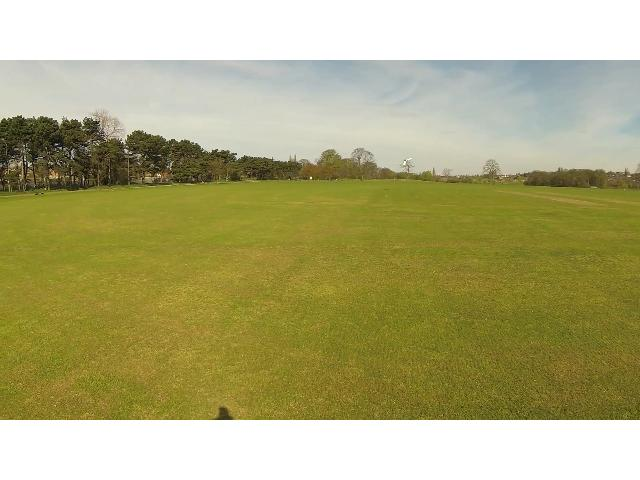Anti-Drone: (402, 154, 416, 170)
